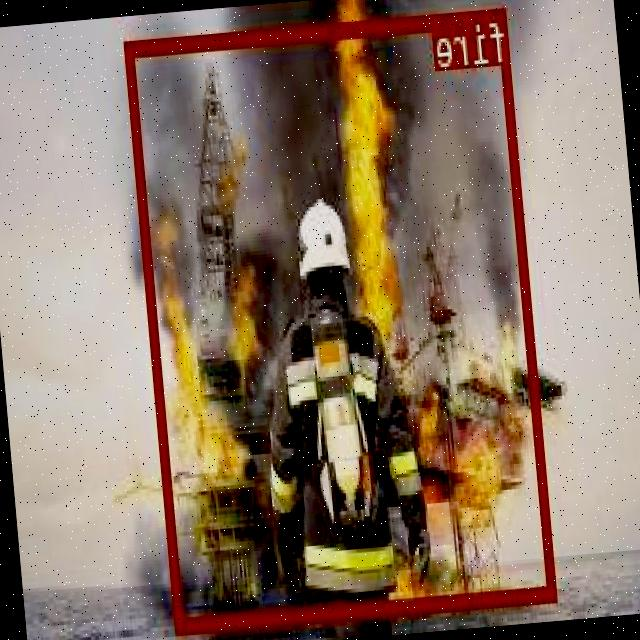fire: (126, 6, 559, 631)
